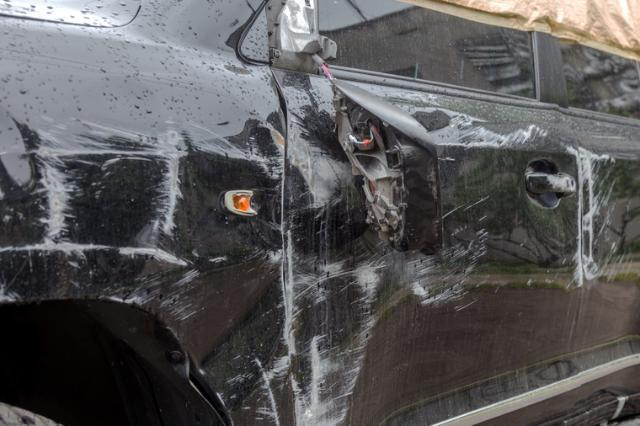Door: (261, 0, 640, 410)
Fender: (0, 18, 234, 347)
